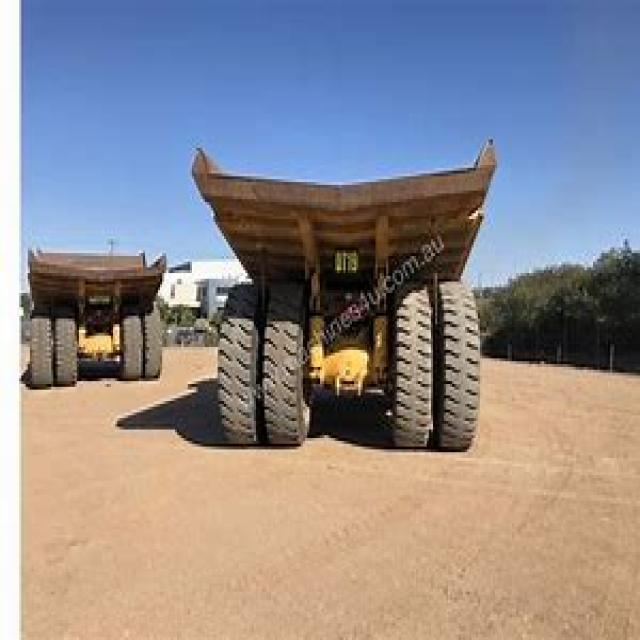dump_truck: (188, 100, 490, 438), (24, 217, 179, 396)
